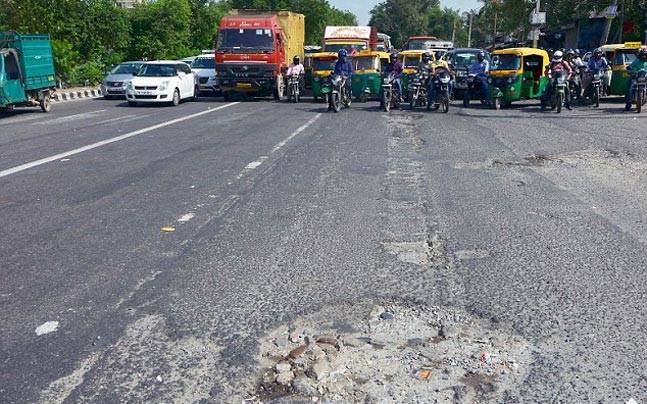pothole: (239, 290, 559, 400)
